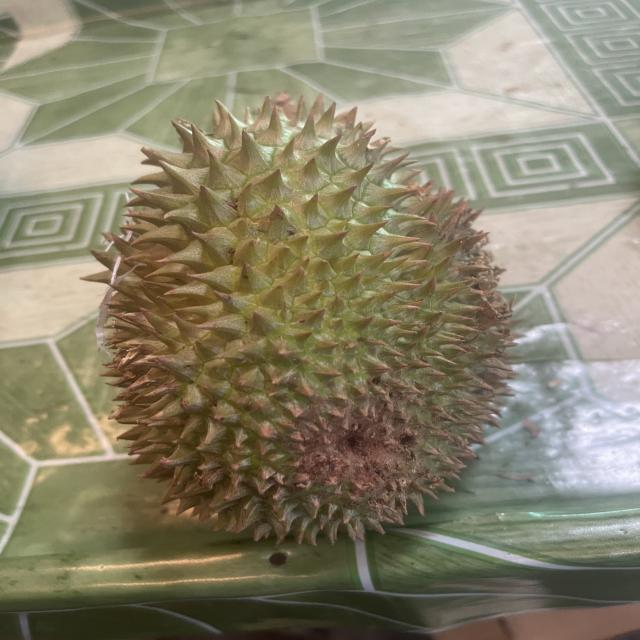mature: (84, 74, 523, 543)
